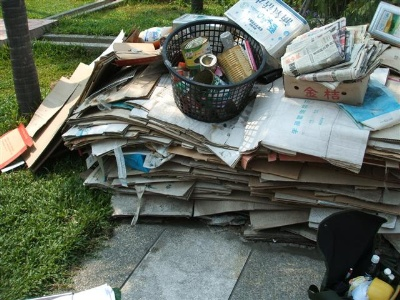bottle: (218, 45, 255, 84), (180, 36, 213, 70)
box: (224, 1, 310, 70), (282, 73, 370, 105)
